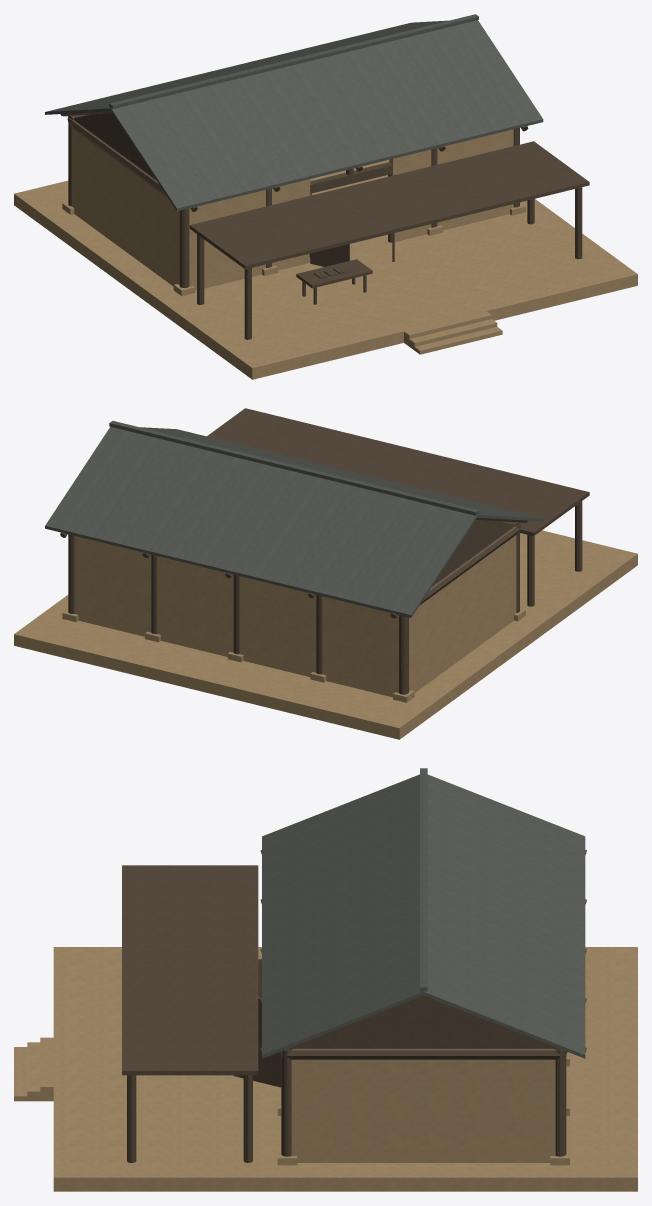
The model's file is wuku-A-LOD1.glb.
3 views of the same model, one above another, from view 1: azimuth 30°, elevation 25°; view 2: azimuth 150°, elevation 25°; view 3: azimuth 270°, elevation 25° (orthographic). The views are drawn at different scales.
Visible parts, largest first — view 1: wuku-A-static_earth, wuku-A-static_tile, wuku-A-static_timber; view 2: wuku-A-static_earth, wuku-A-static_tile, wuku-A-static_timber; view 3: wuku-A-static_earth, wuku-A-static_tile, wuku-A-static_timber.
Part boxes in pixels (x1=…): wuku-A-static_earth: x1=14, y1=120, x2=637, y2=379; wuku-A-static_tile: x1=45, y1=14, x2=543, y2=211; wuku-A-static_timber: x1=60, y1=111, x2=589, y2=339; wuku-A-static_earth: x1=14, y1=527, x2=637, y2=739; wuku-A-static_tile: x1=45, y1=421, x2=543, y2=617; wuku-A-static_timber: x1=60, y1=408, x2=589, y2=694; wuku-A-static_earth: x1=14, y1=947, x2=637, y2=1191; wuku-A-static_tile: x1=262, y1=768, x2=585, y2=1058; wuku-A-static_timber: x1=122, y1=850, x2=586, y2=1162.
Bounding box in the file's own units: 14 × 5.63 × 16.02.
3 materials, 3 textured.
